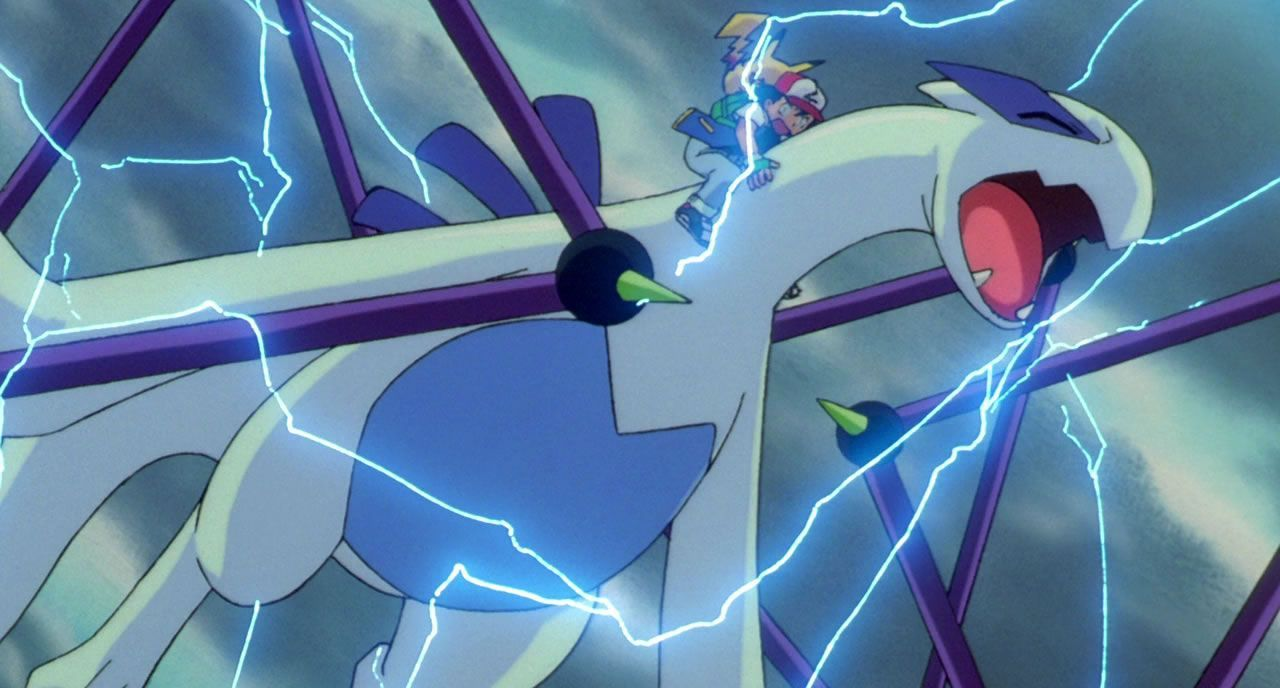lugia: (889, 59, 1155, 333)
